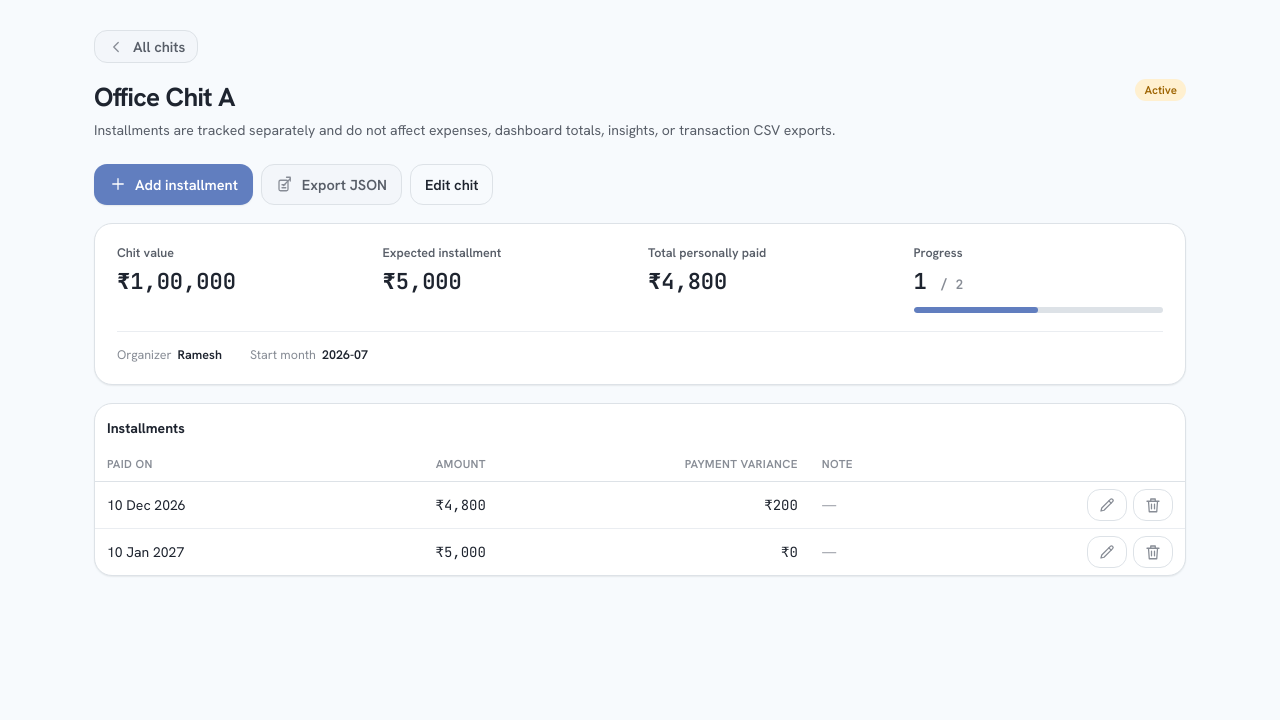
it: ChitDetailPage › shows the year for every installment and preserves date editing
Check: the text "10 Dec 2026" is shown, box 95,482 -> 329,529
Check: the text "10 Jan 2027" is shown, box 95,529 -> 329,575
Click the button named "Edit installment" in the row of "10 Dec" at (1107, 505), box 1087,489 -> 1127,521
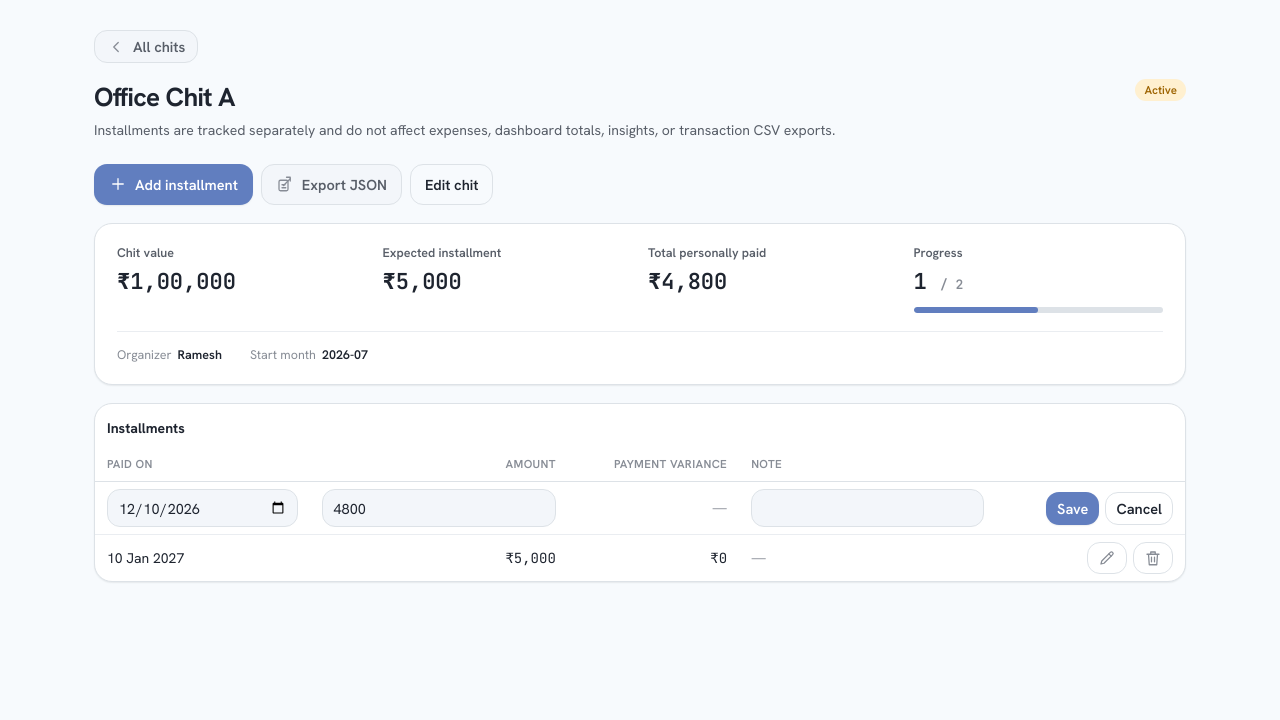
Check: the date field holds "2026-12-10", box 107,489 -> 298,527
Click the button "Cancel" at (1139, 508), box 1105,492 -> 1173,525
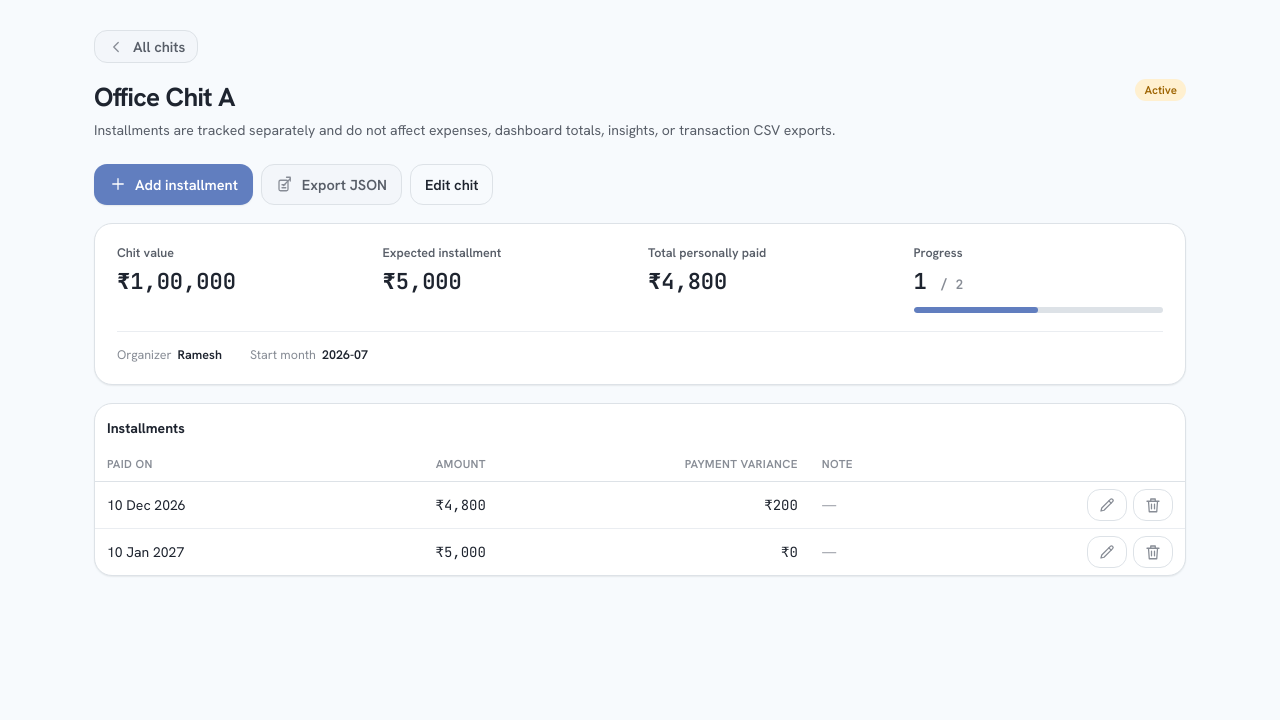
Check: the text "10 Dec 2026" is shown, box 95,482 -> 329,529
